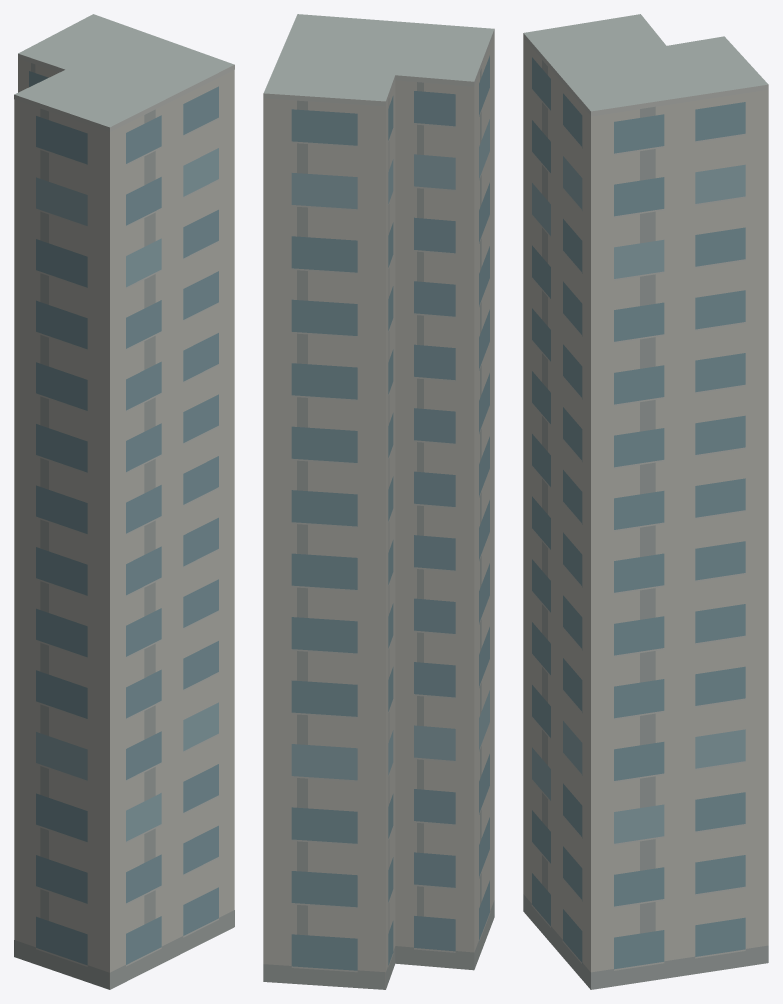
File: survey-upis-32475319.glb
3 views of the same model, side by side, from view 1: azimuth 30°, elevation 25°; view 2: azimuth 150°, elevation 25°; view 3: azimuth 270°, elevation 25° (orthographic). The views are drawn at different scales.
Parts seen in each view (by area): view 1: survey-upis-32475319.tmp; view 2: survey-upis-32475319.tmp; view 3: survey-upis-32475319.tmp.
Part boxes in pixels (x1,y1,x2,y2): survey-upis-32475319.tmp: [14, 14, 234, 989]; survey-upis-32475319.tmp: [263, 14, 494, 989]; survey-upis-32475319.tmp: [523, 14, 768, 989].
Size of the model in its own units: 10.17 by 42.7 by 10.81.
